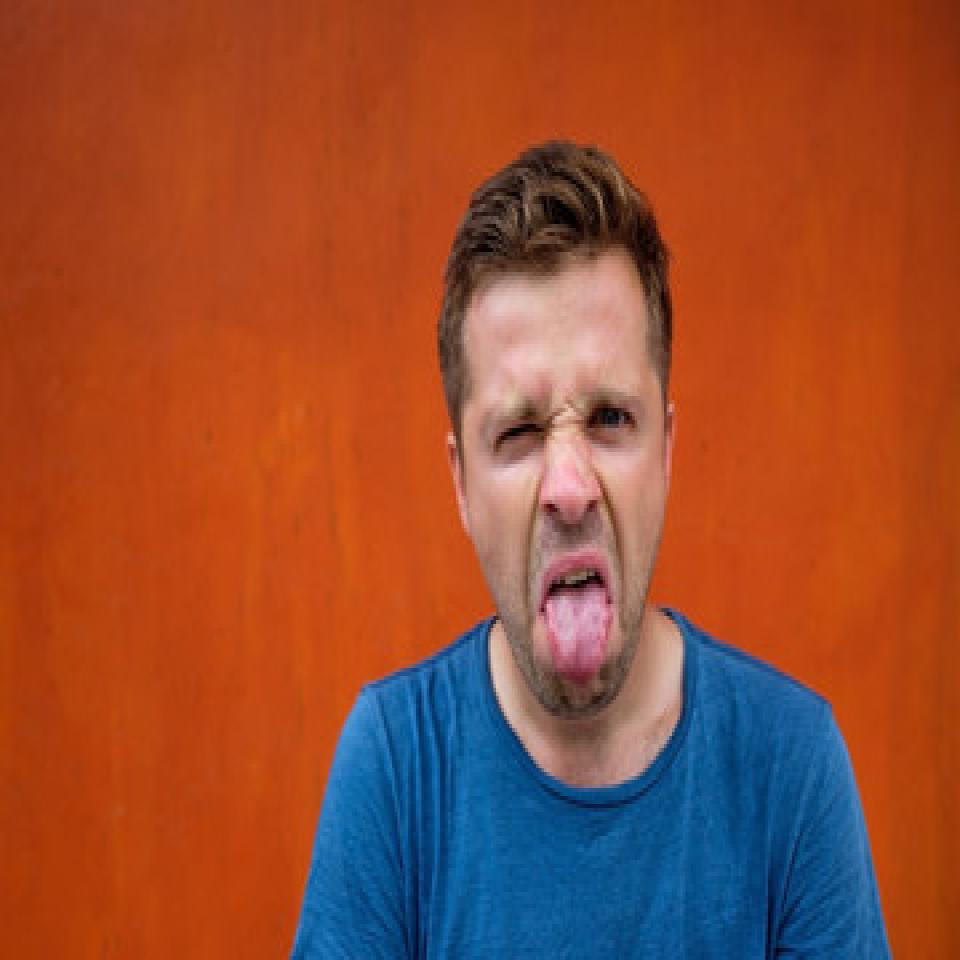Disgust: (458, 264, 664, 726)
